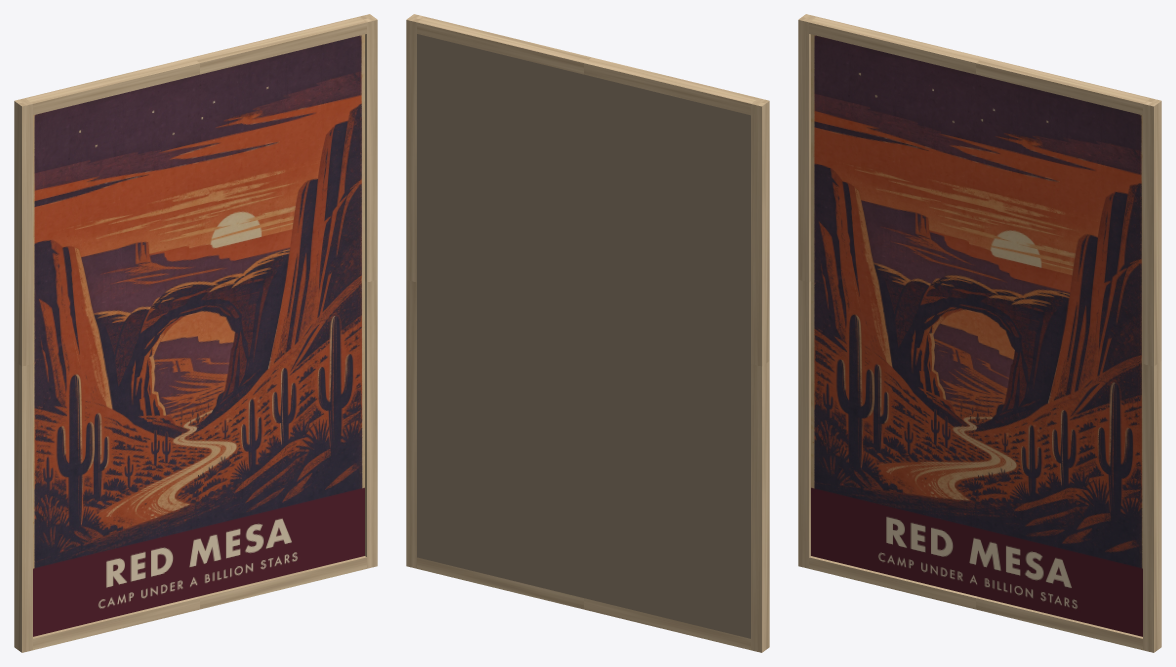
Rendered from poster-red-mesa.glb.
3 renders of one model, left to right at view 1: azimuth 30°, elevation 25°; view 2: azimuth 150°, elevation 25°; view 3: azimuth 330°, elevation 25°, orthographic.
Visible parts, largest first — view 1: poster-red-mesa; view 2: poster-red-mesa; view 3: poster-red-mesa.
Boxes of the visible parts, <box> form: poster-red-mesa: <box>14,14,377,652</box>; poster-red-mesa: <box>406,14,769,652</box>; poster-red-mesa: <box>798,14,1161,652</box>.
Size of the model in its own units: 0.65 by 0.954 by 0.025.
Materials: 3 (2 with a texture image).
